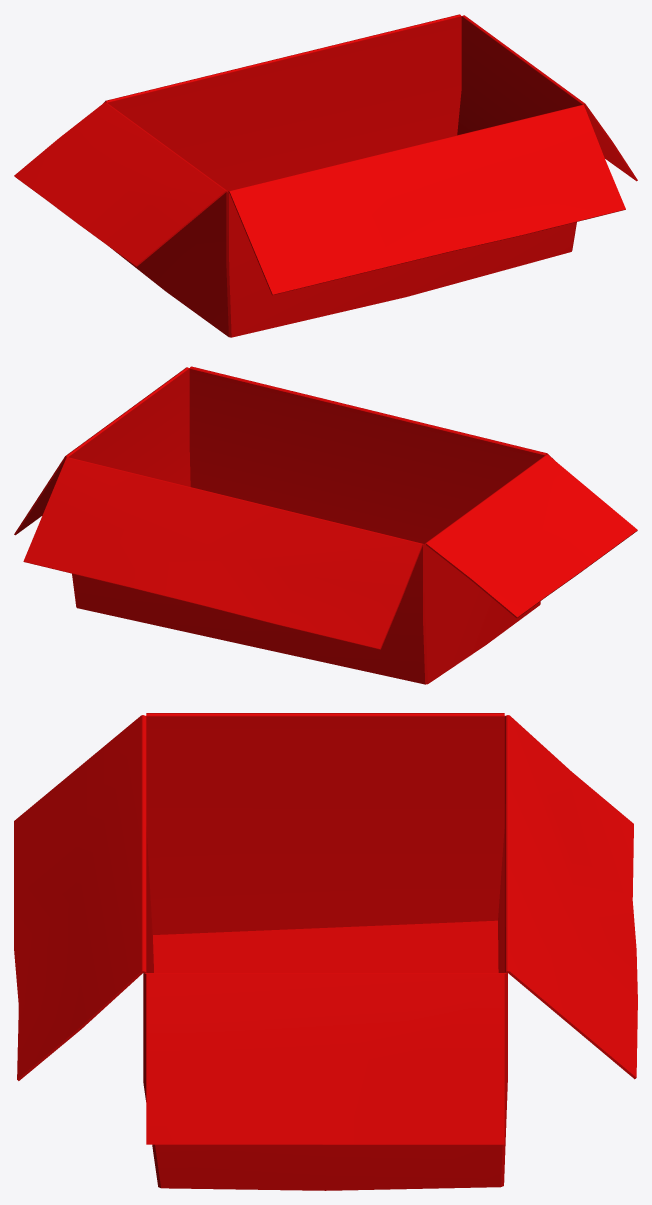
File: cardboardBox5.fbx
The picture shows the model from 3 angles, top to bottom: view 1: azimuth 30°, elevation 25°; view 2: azimuth 150°, elevation 25°; view 3: azimuth 270°, elevation 25°; orthographic projection. The views are drawn at different scales.
Parts seen in each view (by area): view 1: Cardboard_Box_5; view 2: Cardboard_Box_5; view 3: Cardboard_Box_5.
Boxes of the visible parts, left/top/right/bottom form: Cardboard_Box_5: left=14, top=14, right=637, bottom=337; Cardboard_Box_5: left=14, top=366, right=637, bottom=684; Cardboard_Box_5: left=14, top=713, right=637, bottom=1190.
Bounding box in the file's own units: 52.1 × 14.77 × 37.8.
